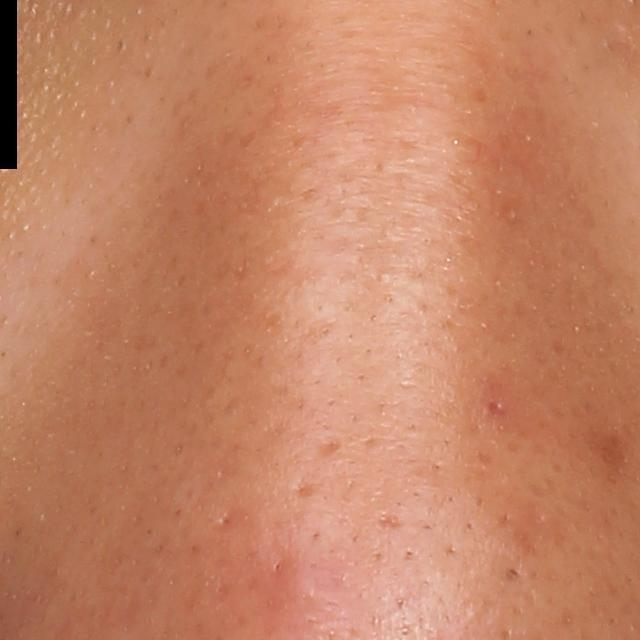atrophic_scar: (314, 436, 343, 460), (376, 511, 403, 532), (295, 478, 321, 498)
